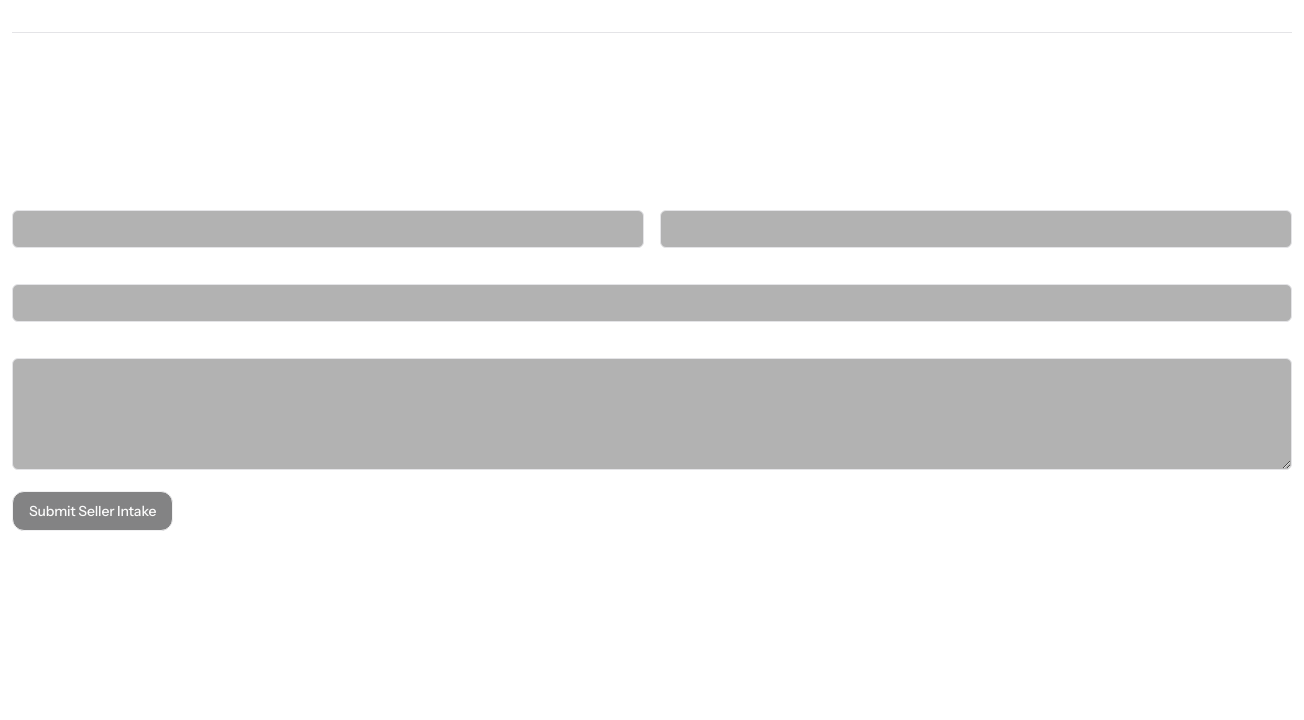
Test: SellerSubmissionSection › shows error state when submission fails
Step 1. Type "Jane" into the field labelled "Name" → (328, 229), box [12,210,644,248]
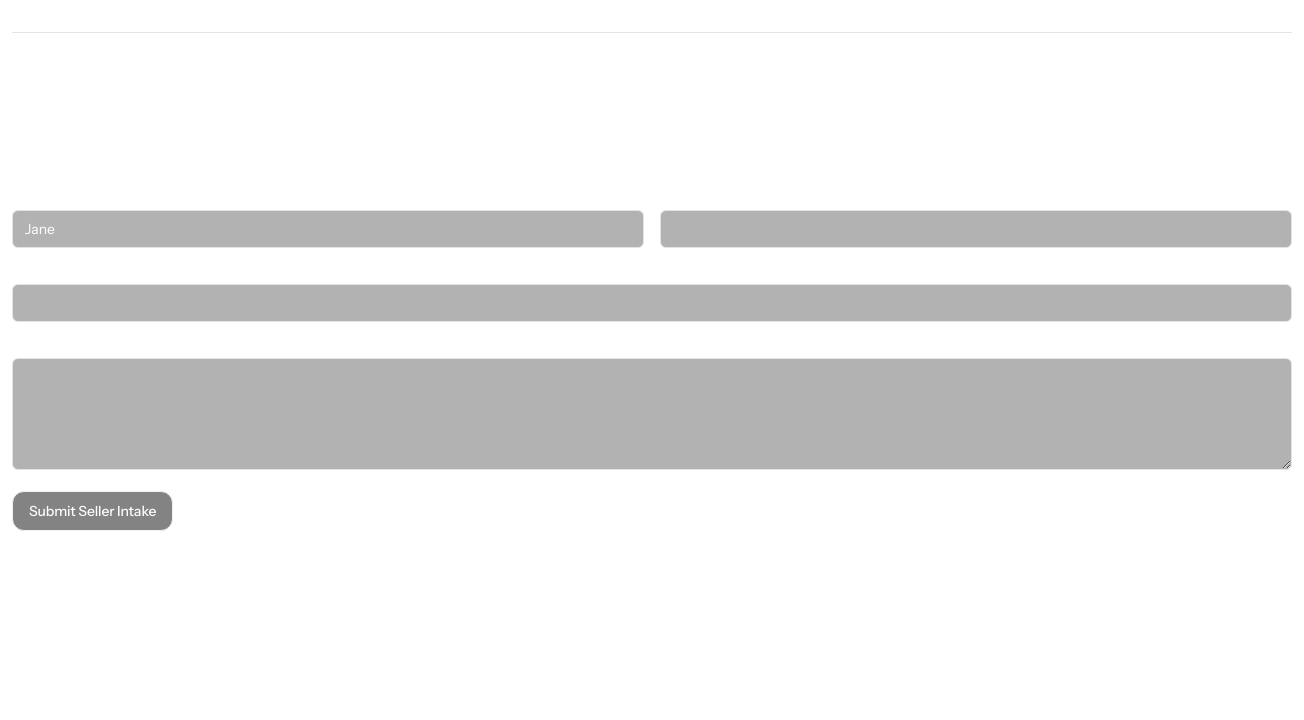
Step 2. Type "jane@example.com" into the field labelled "Email" → (976, 229), box [660,210,1292,248]
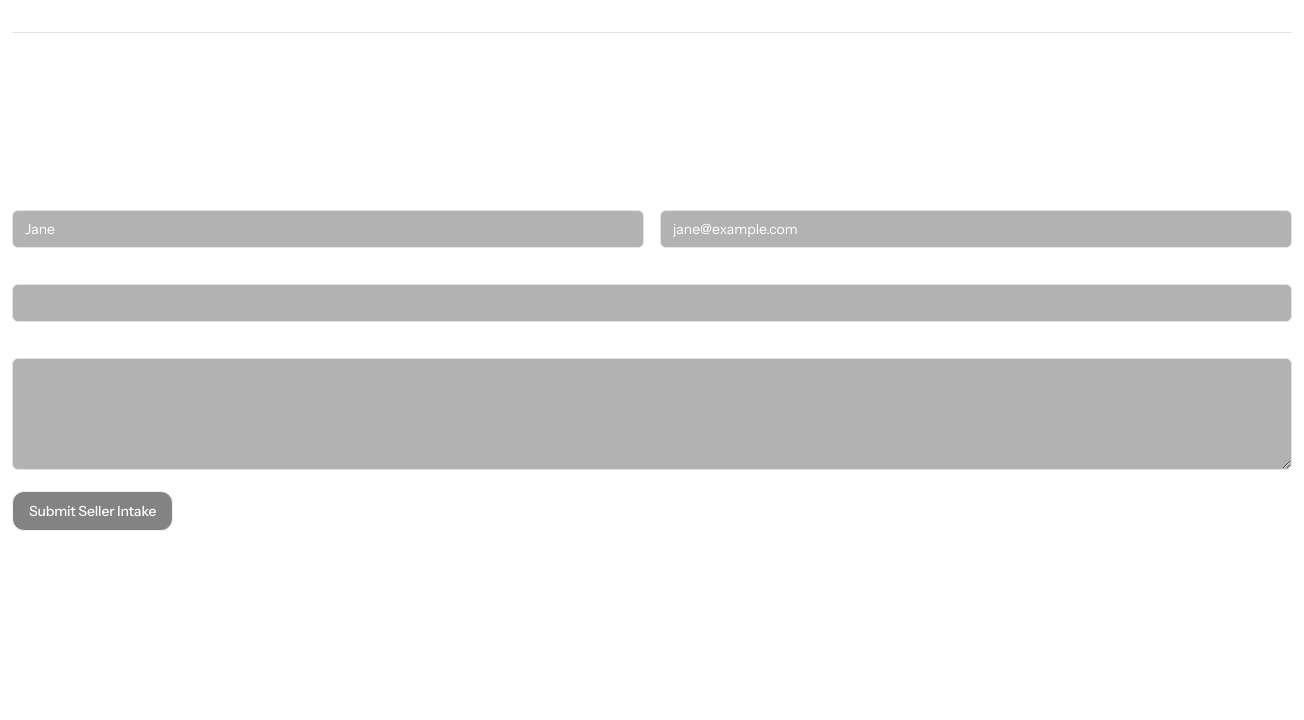
Step 3. Type "123 Main St" into the field labelled "Property address" → (652, 303), box [12,284,1292,322]
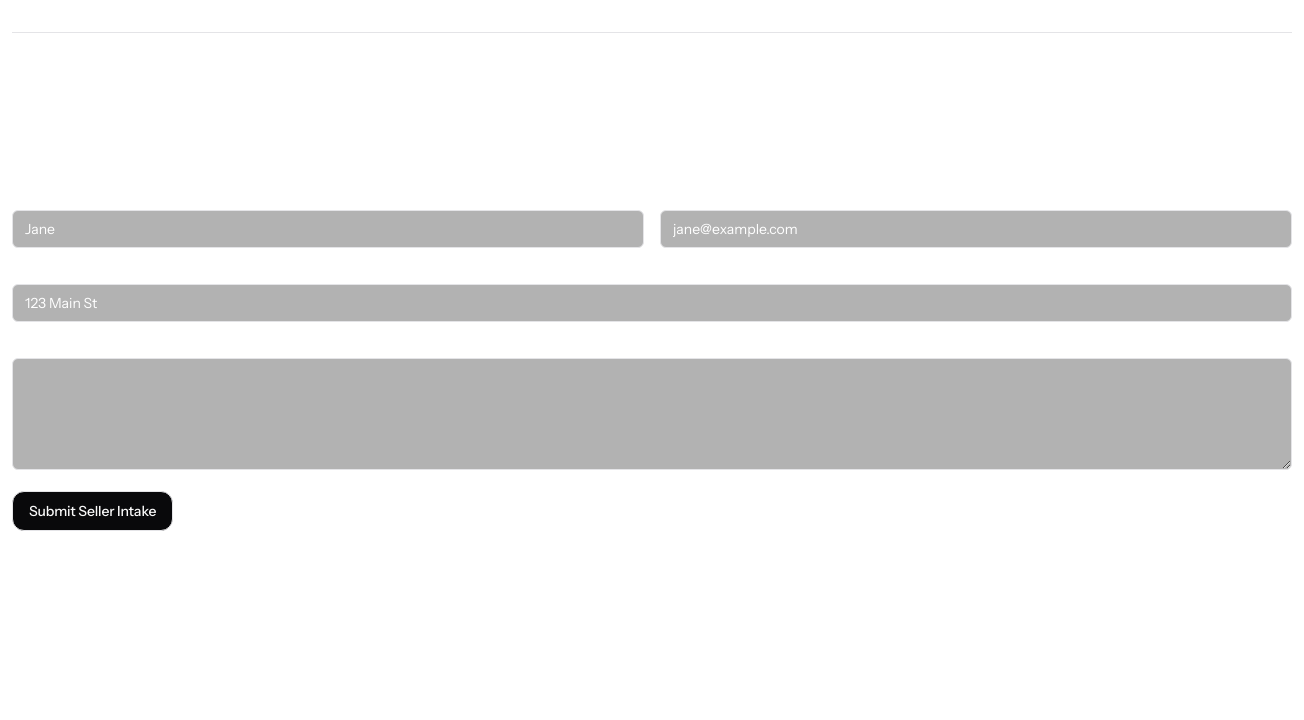
Step 4. Click the button "Submit Seller Intake" → (93, 511), box [12,491,173,531]
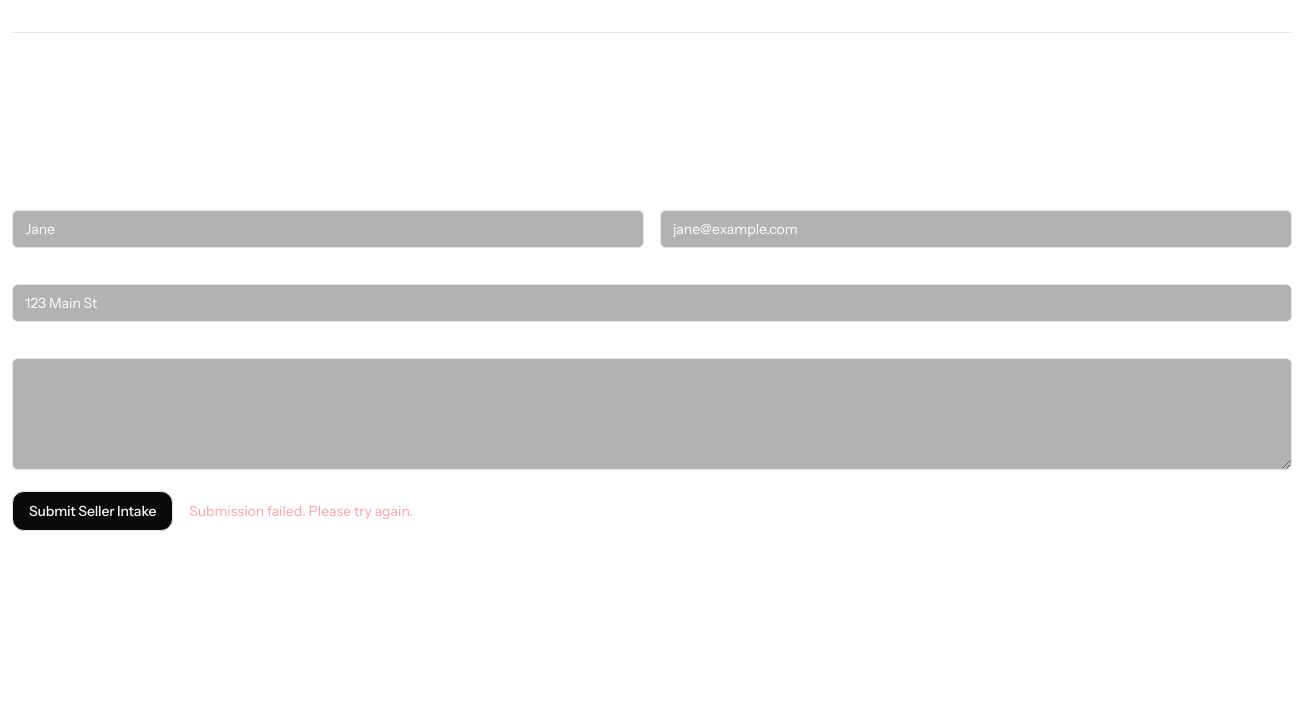
Result: the text "Submission failed. Please try again." is shown at [189,501,413,521]
